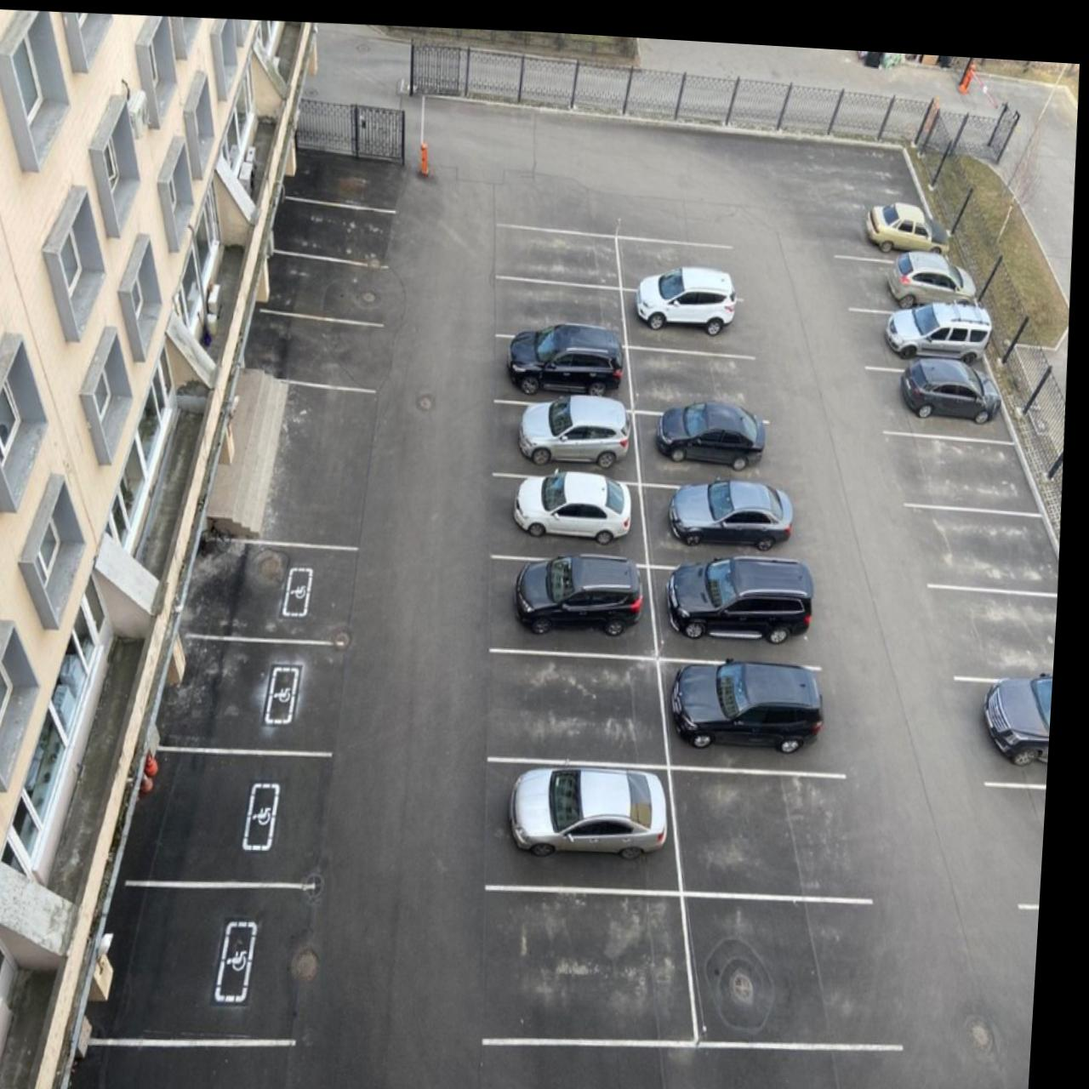cars: (486, 752, 672, 882), (668, 653, 835, 774), (484, 552, 654, 668), (652, 552, 824, 655), (640, 468, 798, 571), (482, 396, 639, 485), (491, 469, 627, 567), (487, 332, 623, 414), (872, 362, 1016, 435), (641, 399, 776, 476), (628, 280, 743, 361), (859, 302, 992, 371), (978, 672, 1053, 791), (850, 254, 982, 312), (834, 201, 952, 265)
empty: (89, 860, 325, 1060), (488, 880, 696, 1063), (684, 894, 905, 1052), (130, 729, 341, 884), (668, 759, 882, 906), (471, 646, 674, 765), (170, 622, 355, 747), (188, 534, 376, 634), (930, 574, 1058, 693), (912, 498, 1063, 593), (241, 310, 395, 389), (251, 245, 405, 323), (887, 434, 1031, 507), (629, 338, 754, 417), (267, 197, 406, 263), (494, 219, 626, 288), (488, 281, 622, 344), (617, 228, 734, 291)
